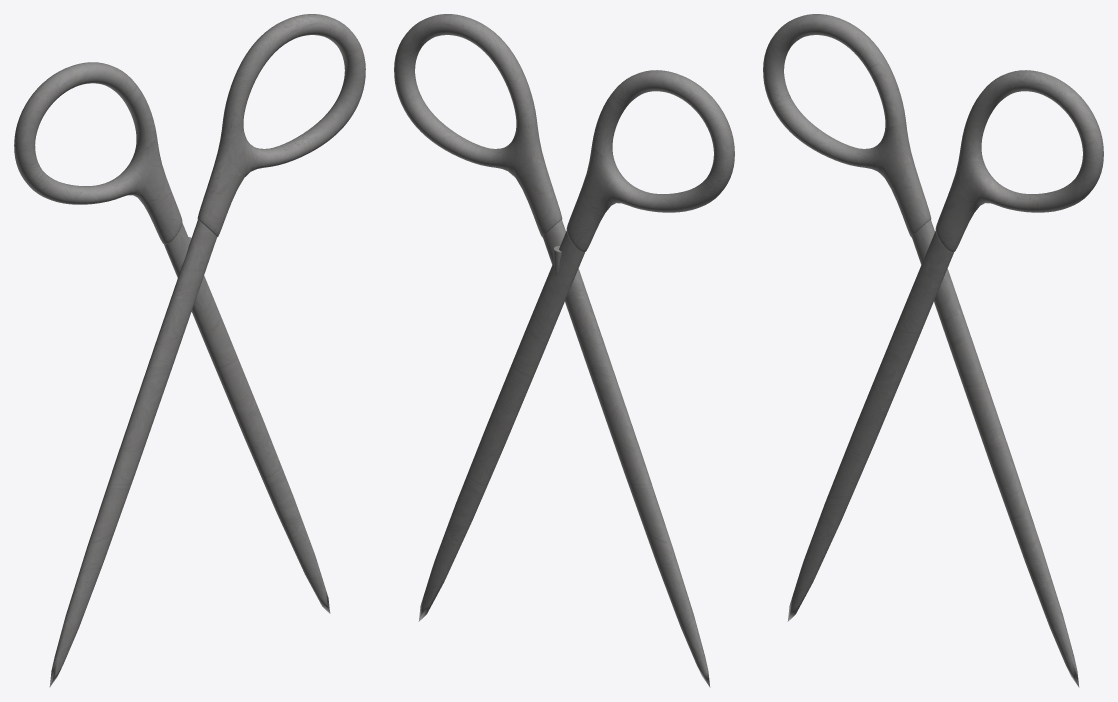
Rendered from scissors.glb.
3 views of the same model, side by side, from view 1: azimuth 30°, elevation 25°; view 2: azimuth 150°, elevation 25°; view 3: azimuth 330°, elevation 25° (orthographic).
Parts seen in each view (by area): view 1: Circle; view 2: Circle; view 3: Circle.
Boxes of the visible parts, x1,y1,x2,y2 form: Circle: [14, 14, 365, 687]; Circle: [394, 14, 734, 687]; Circle: [763, 14, 1103, 687].
Bounding box in the file's own units: 4.09 × 6.95 × 0.3442.
2 materials, 2 textured.
